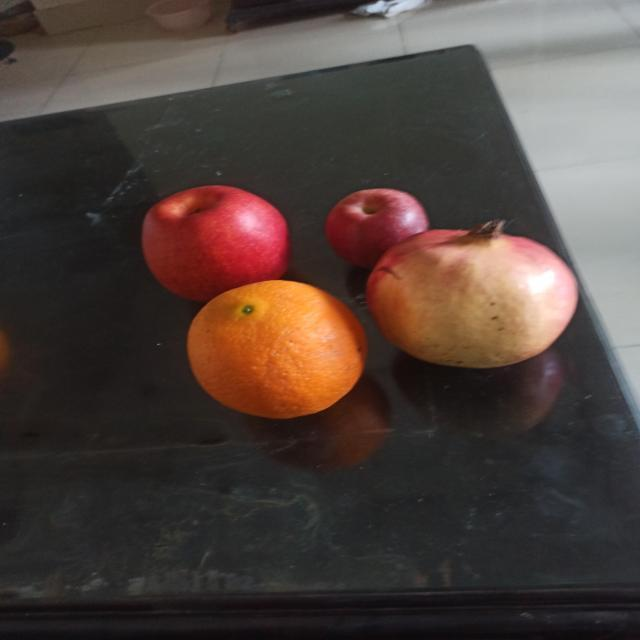apple: (140, 184, 290, 300), (328, 189, 428, 263)
